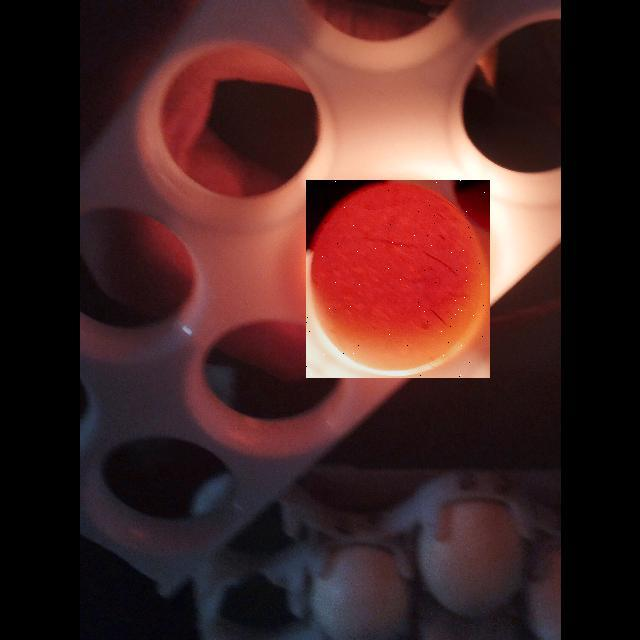Infertile: (306, 180, 490, 378)
